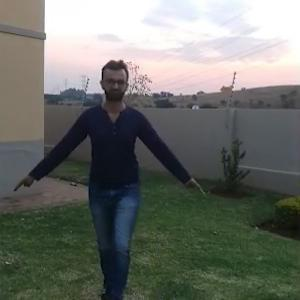land: (31, 62, 189, 274)
